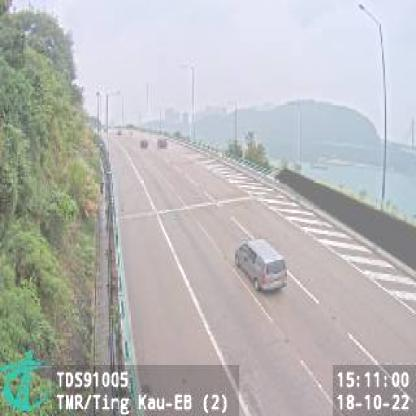Car: (233, 238, 286, 295)
